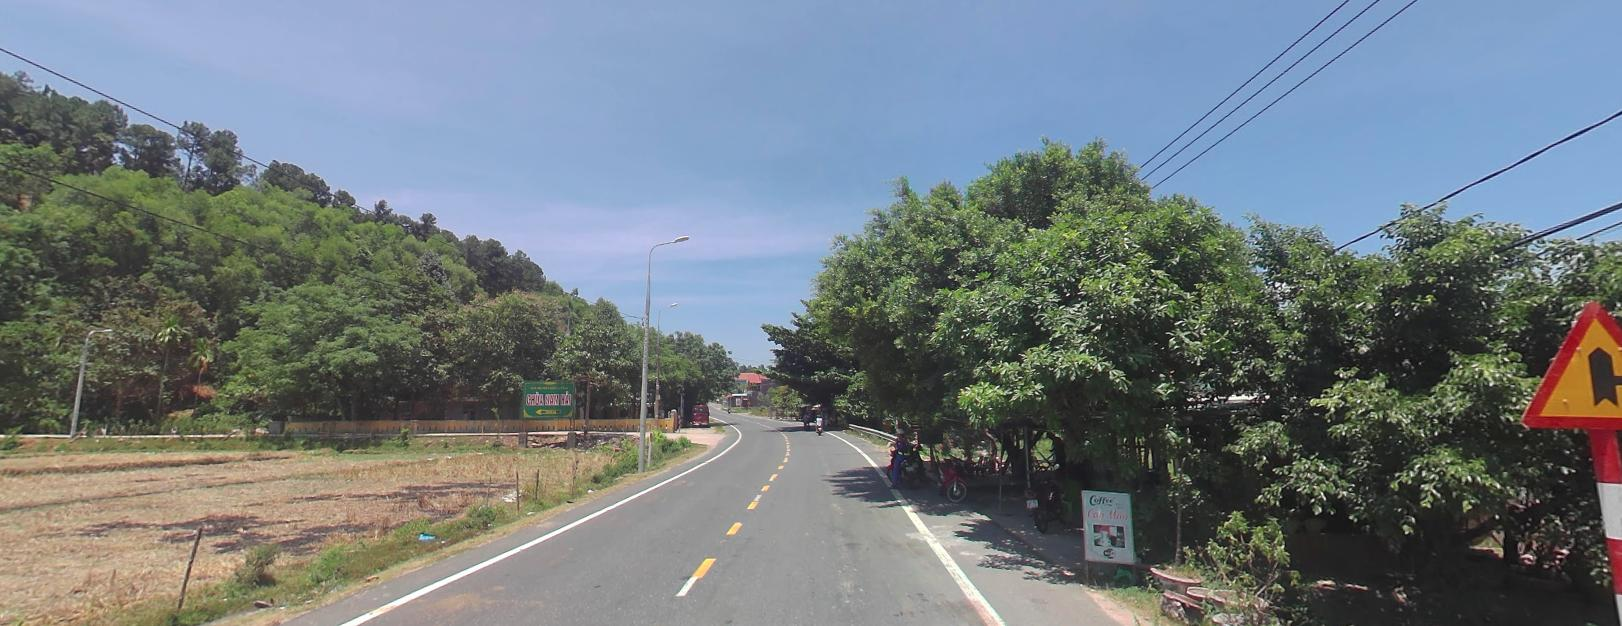Nguy hiem: (1496, 292, 1621, 436)
